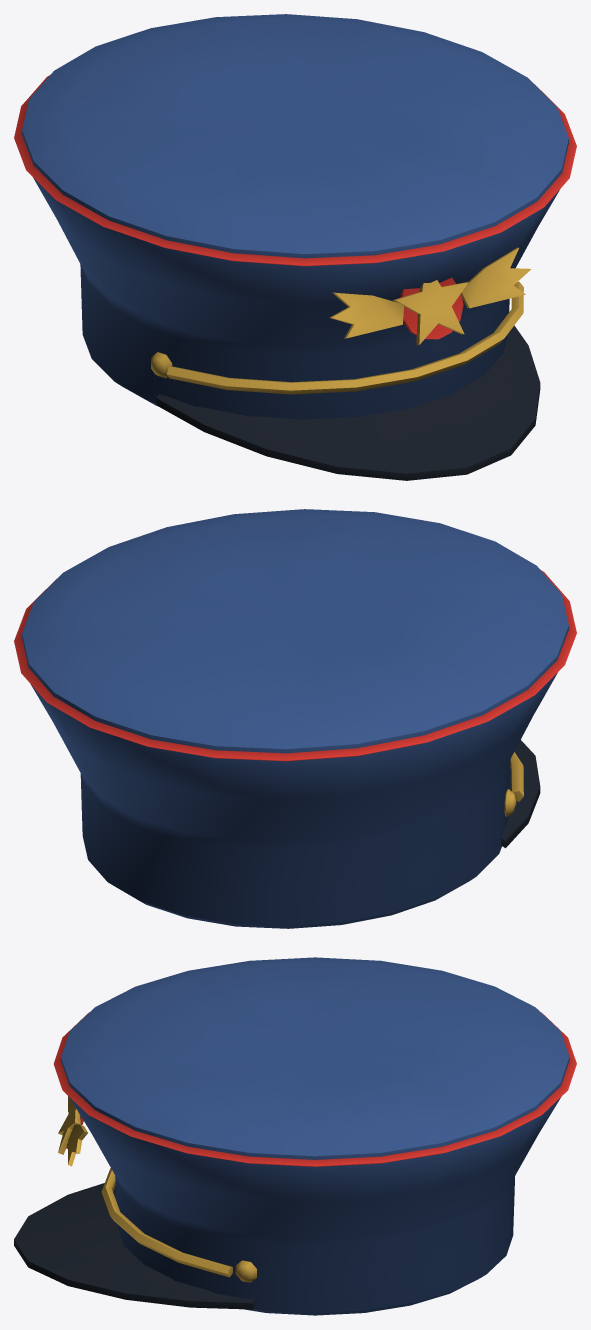
File: gift-cap.glb
3 renders of one model, top to bottom at view 1: azimuth 30°, elevation 25°; view 2: azimuth 150°, elevation 25°; view 3: azimuth 270°, elevation 25°, orthographic. The views are drawn at different scales.
Visible parts, largest first — view 1: Gift cap Navy wool, Gift cap Peak, Gift cap Gold, Gift cap Red piping; view 2: Gift cap Navy wool, Gift cap Red piping, Gift cap Peak, Gift cap Gold; view 3: Gift cap Navy wool, Gift cap Peak, Gift cap Red piping, Gift cap Gold.
Boxes of the visible parts, x1,y1,x2,y2 form: Gift cap Navy wool: (22,14,568,419); Gift cap Peak: (156,325,540,480); Gift cap Gold: (151,247,531,394); Gift cap Red piping: (14,75,576,339); Gift cap Navy wool: (22,509,568,928); Gift cap Red piping: (14,570,576,761); Gift cap Peak: (501,740,540,848); Gift cap Gold: (504,752,523,816); Gift cap Navy wool: (61,957,569,1315); Gift cap Peak: (14,1183,254,1309); Gift cap Red piping: (53,1012,576,1166); Gift cap Gold: (58,1096,256,1282).
Size of the model in its own units: 0.242 by 0.1115 by 0.2811.
